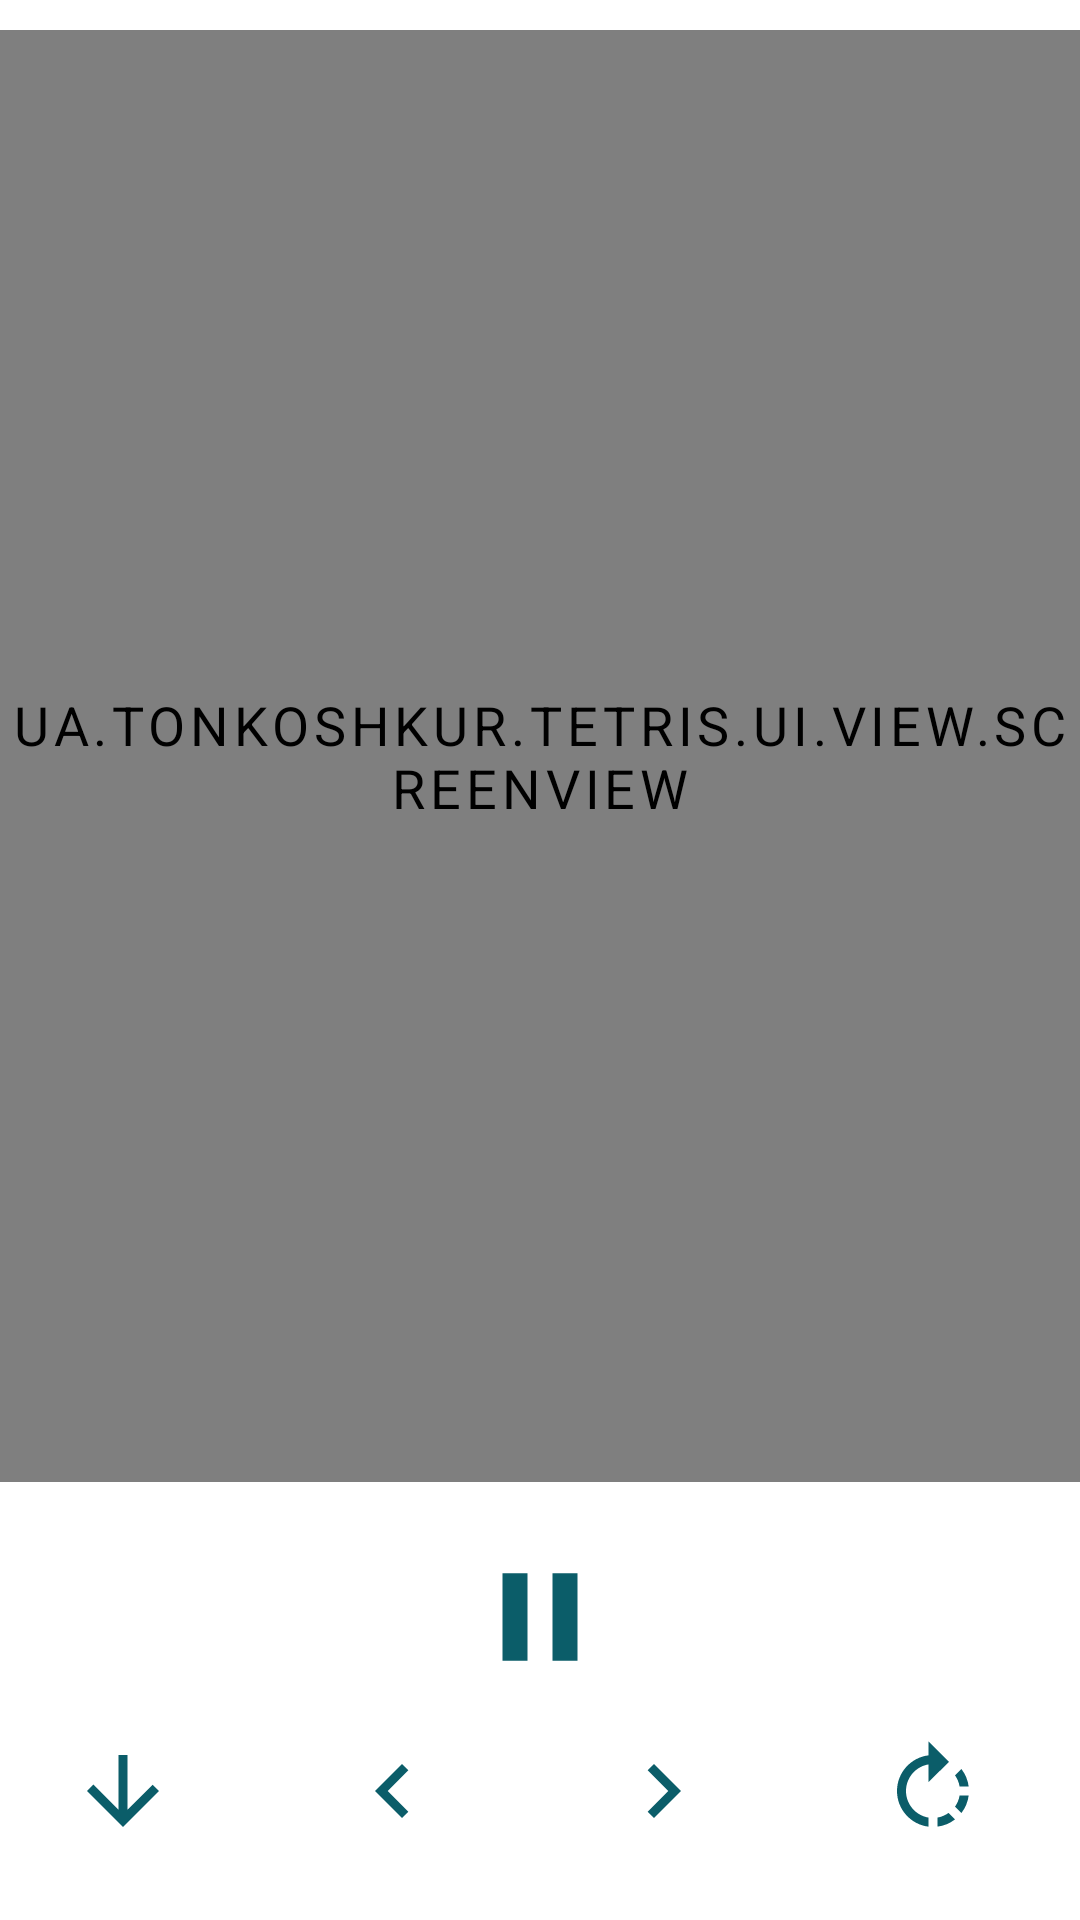

Icon click points for this 1080×1920 phone screenshot, format (x,y):
arrow downward: (123,1791)
chevron left: (392,1791)
chevron right: (664,1791)
rotate right: (933,1784)
